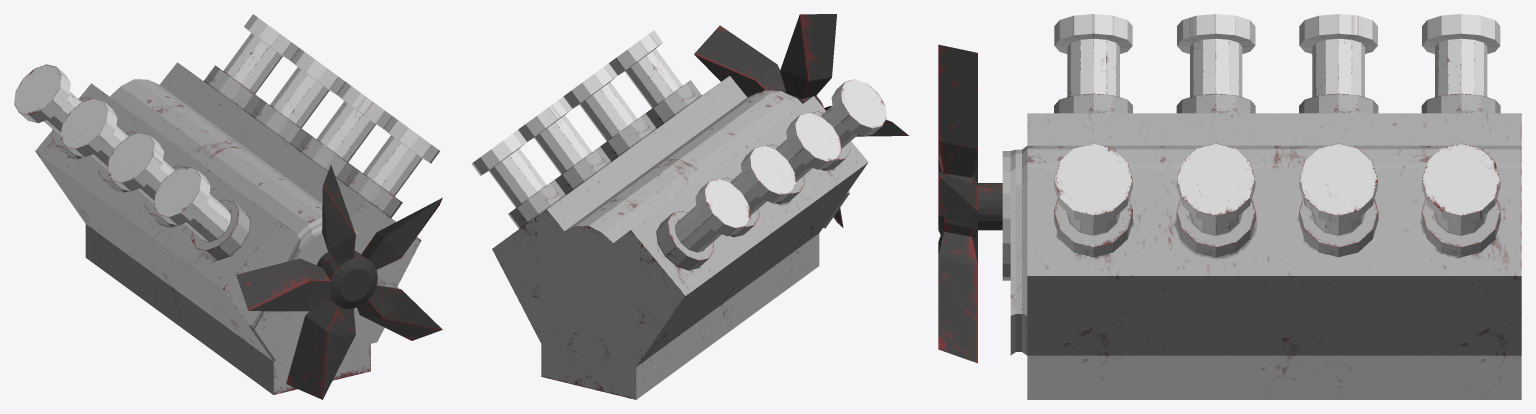
Rendered from MotorV8 (2).fbx.
The picture shows the model from 3 angles, left to right: view 1: azimuth 30°, elevation 25°; view 2: azimuth 150°, elevation 25°; view 3: azimuth 270°, elevation 25°; orthographic projection. The views are drawn at different scales.
Parts seen in each view (by area): view 1: Cylinder; view 2: Cylinder; view 3: Cylinder.
Part boxes in pixels (box(x1,y1,x2,y2)): Cylinder: box(14, 14, 442, 399); Cylinder: box(471, 14, 908, 399); Cylinder: box(938, 14, 1521, 399).
Bounding box in the file's own units: 118 × 69.27 × 85.35.
